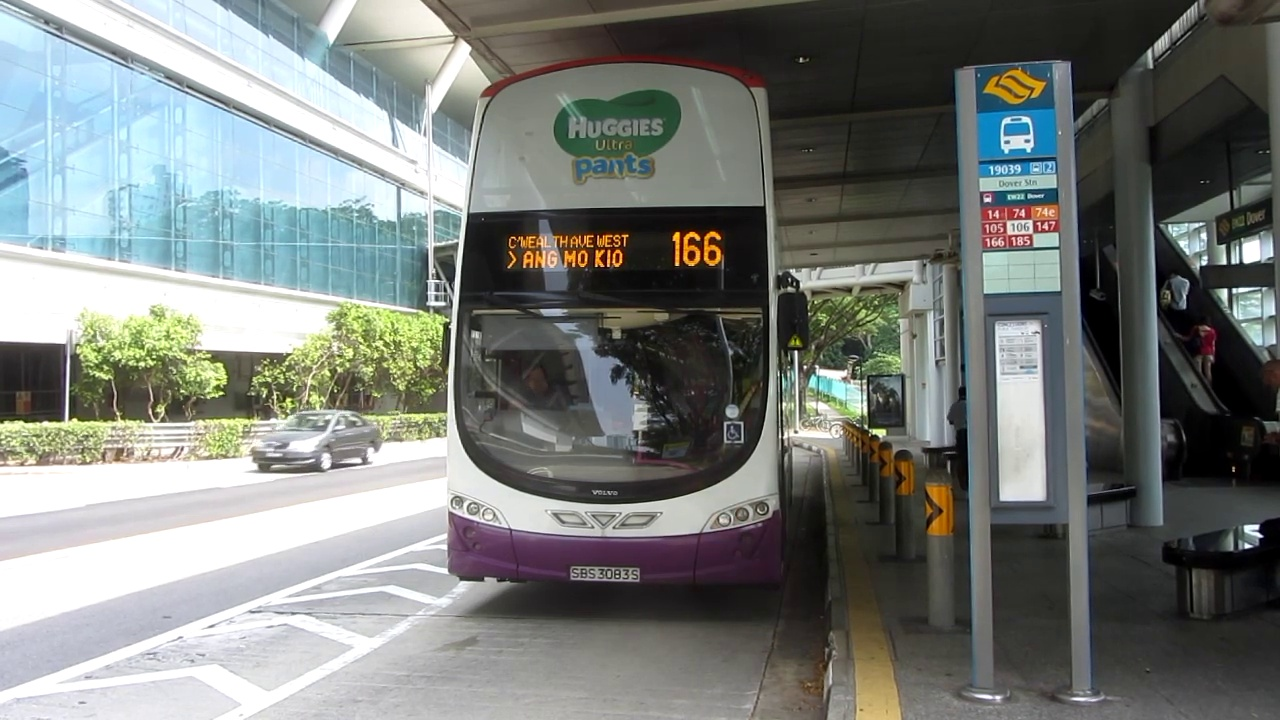bus panel: (501, 227, 730, 274)
